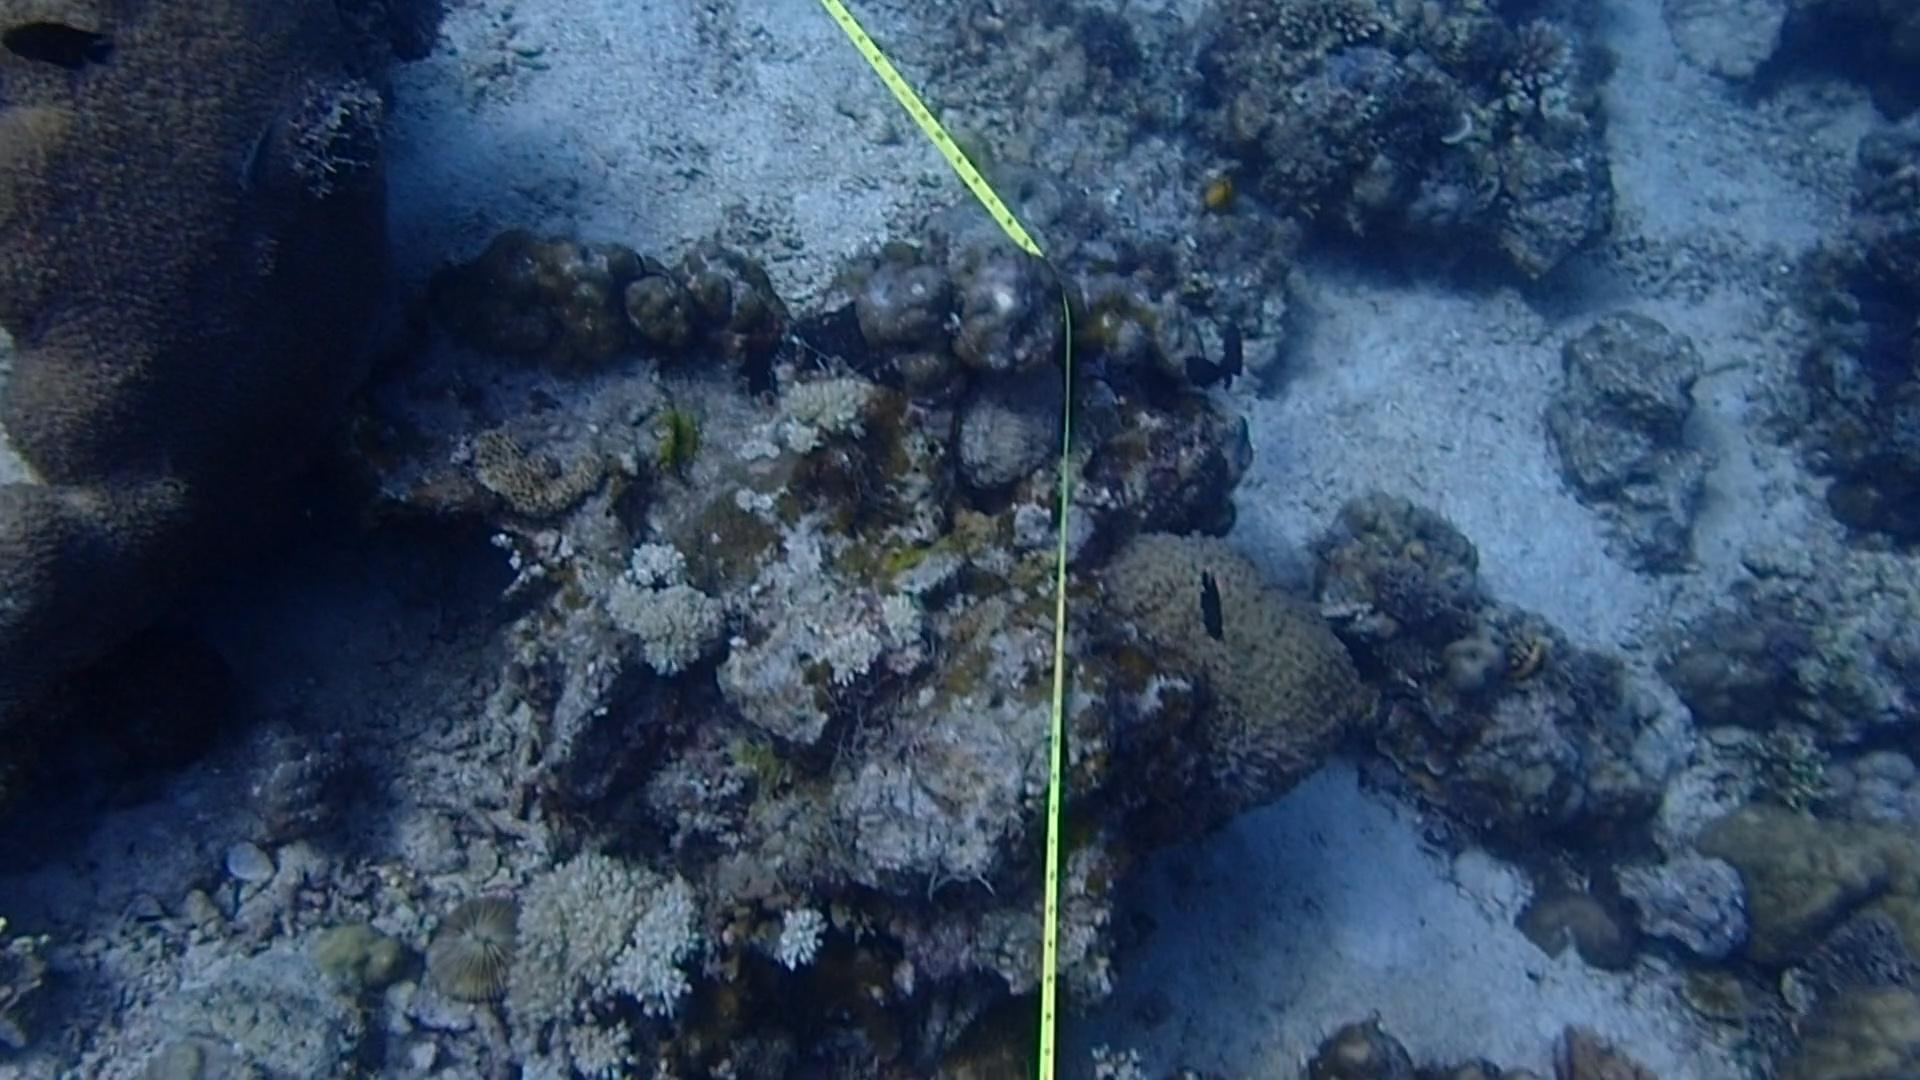Dark Fish: (5, 21, 119, 78), (1336, 618, 1412, 699), (1183, 571, 1240, 638), (1208, 315, 1258, 389), (1184, 338, 1226, 394)
